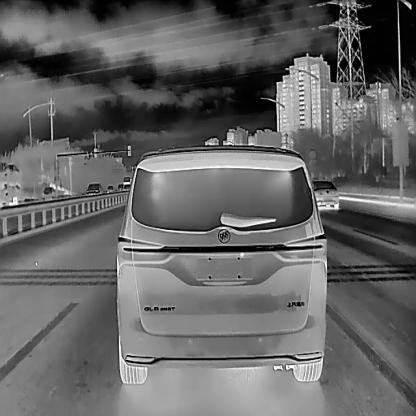car: (114, 144, 327, 384), (310, 179, 339, 210), (84, 180, 104, 195), (40, 186, 56, 201), (105, 183, 112, 192)
truck: (0, 158, 25, 206)
